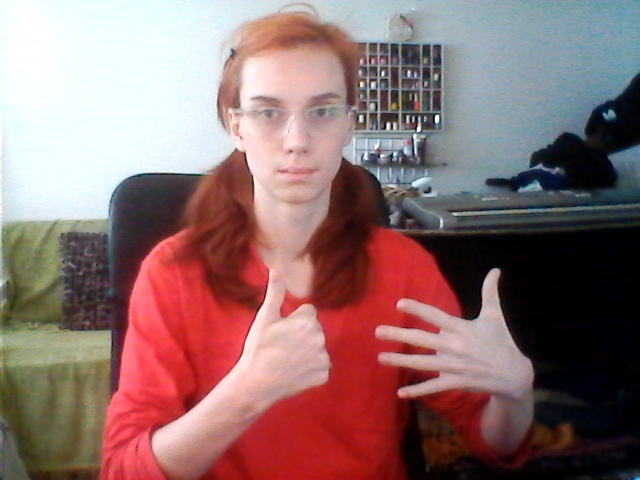sest: (241, 263, 537, 413)
